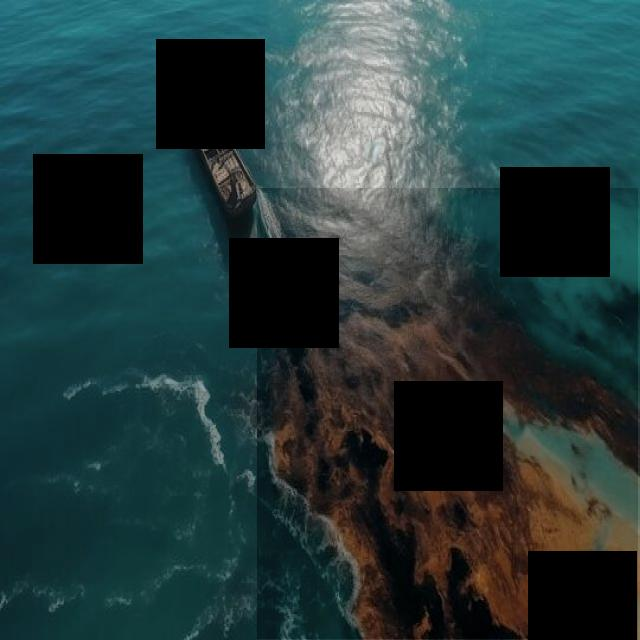oil spill: (257, 189, 638, 639)
